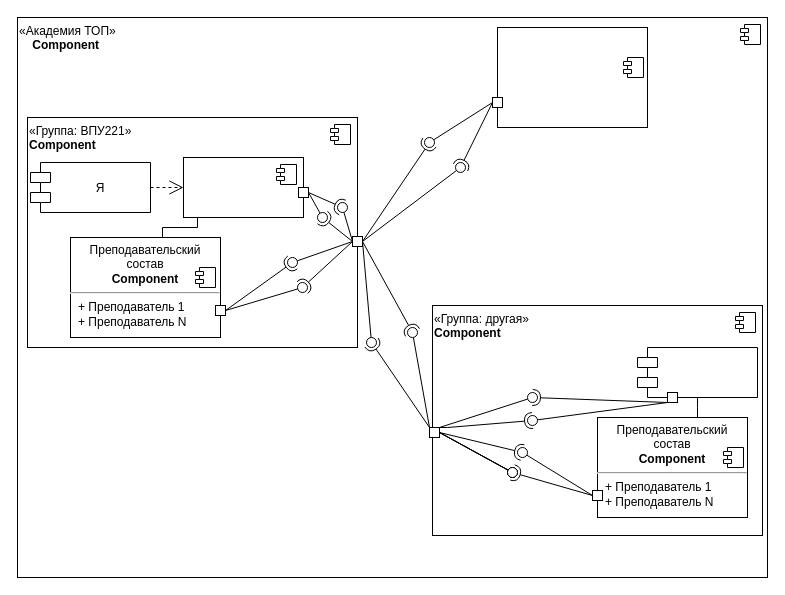
This 785x595 diagram has some shape labels left out. Each missing label, with the centre of its shape:
"«Студенты» Component" belongs at (x=243, y=187).
"Преподавательский состав Component + Преподаватель 1 + Преподаватель M" belongs at (x=572, y=77).
"Студенты Группа: другая" belongs at (x=697, y=372).
